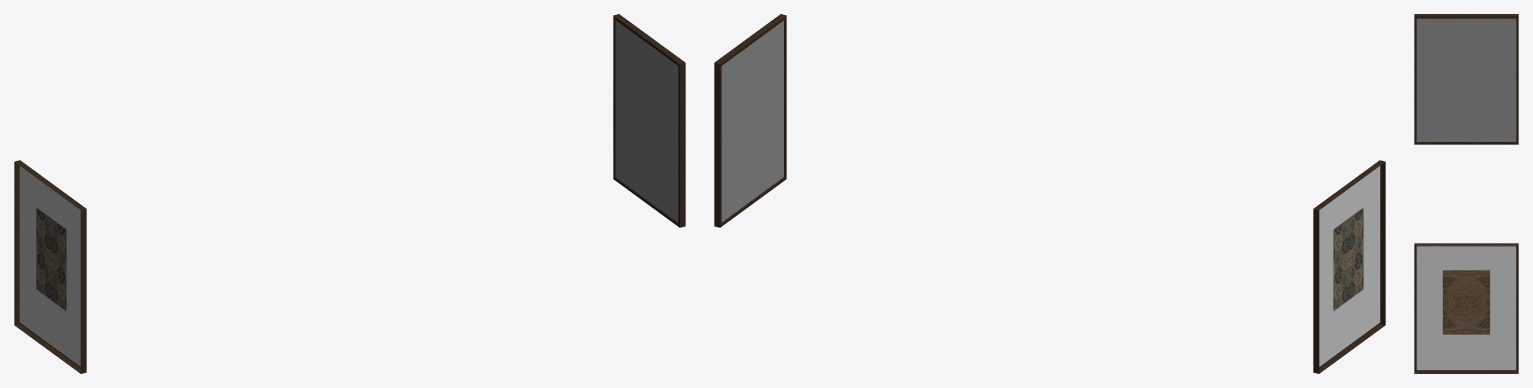
The model's file is CR04_Photo_Frames.FBX.
3 views of the same model, side by side, from view 1: azimuth 30°, elevation 25°; view 2: azimuth 150°, elevation 25°; view 3: azimuth 270°, elevation 25° (orthographic). The views are drawn at different scales.
Visible parts, largest first — view 1: CR04_Photo_Frame02, CR04_Photo_Glass01, CR04_Photo_Frame01; view 2: CR04_Photo_Frame02, CR04_Photo_Glass01, CR04_Photo_Frame01; view 3: CR04_Photo_Frame01, CR04_Photo_Glass02, CR04_Photo_Frame02.
Part boxes in pixels (left/top/right/bottom): CR04_Photo_Frame02: left=14, top=160, right=86, bottom=373; CR04_Photo_Glass01: left=616, top=20, right=678, bottom=221; CR04_Photo_Frame01: left=613, top=14, right=685, bottom=227; CR04_Photo_Frame02: left=1313, top=160, right=1385, bottom=373; CR04_Photo_Glass01: left=721, top=20, right=783, bottom=221; CR04_Photo_Frame01: left=714, top=14, right=786, bottom=227; CR04_Photo_Frame01: left=1414, top=243, right=1518, bottom=373; CR04_Photo_Glass02: left=1416, top=18, right=1516, bottom=141; CR04_Photo_Frame02: left=1414, top=14, right=1518, bottom=144.
Bounding box in the file's own units: 3537 × 914 × 675.
Materials: 3 (2 with a texture image).
